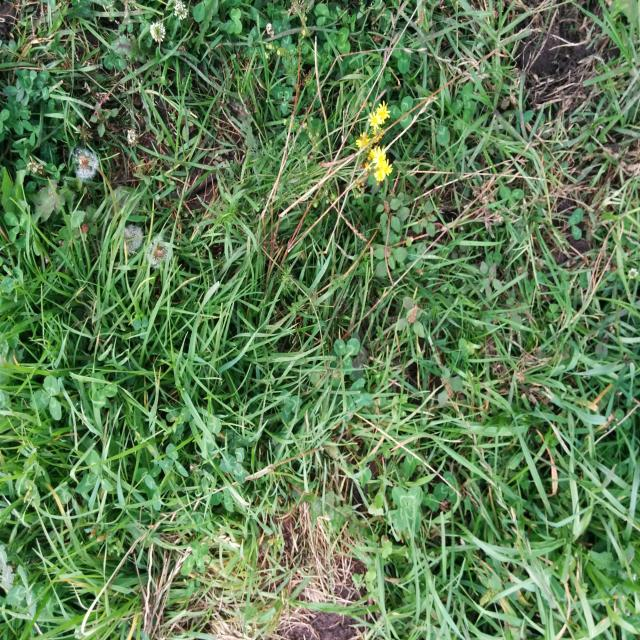Four Leaf Clover: (392, 486, 423, 534)
